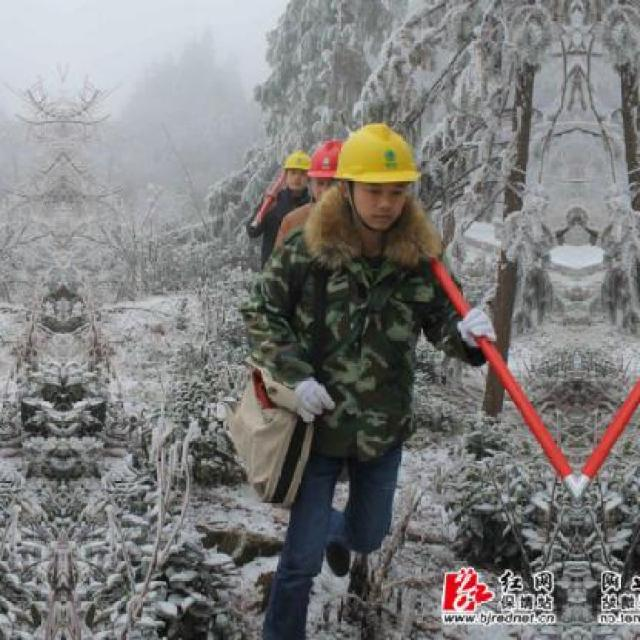helmet: (323, 119, 425, 232), (308, 138, 348, 204), (281, 149, 310, 193)
